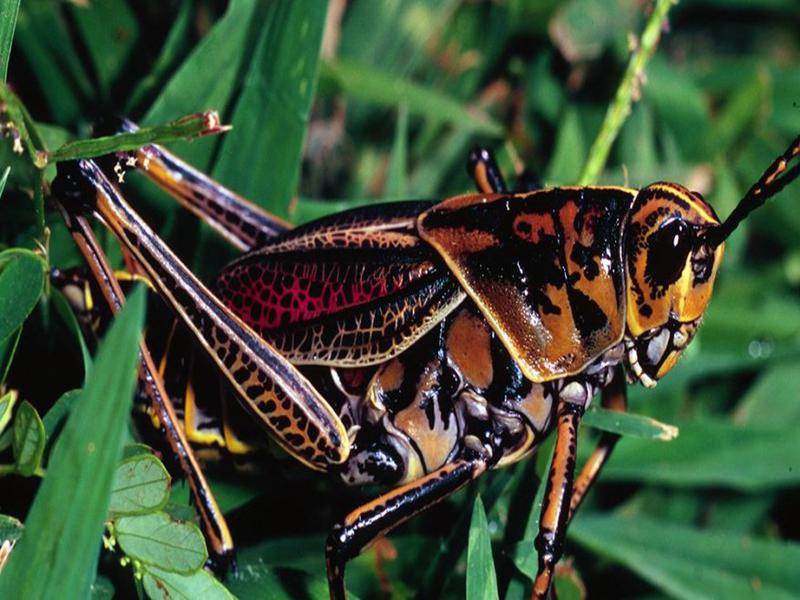Grasshopper: (63, 138, 741, 530)
